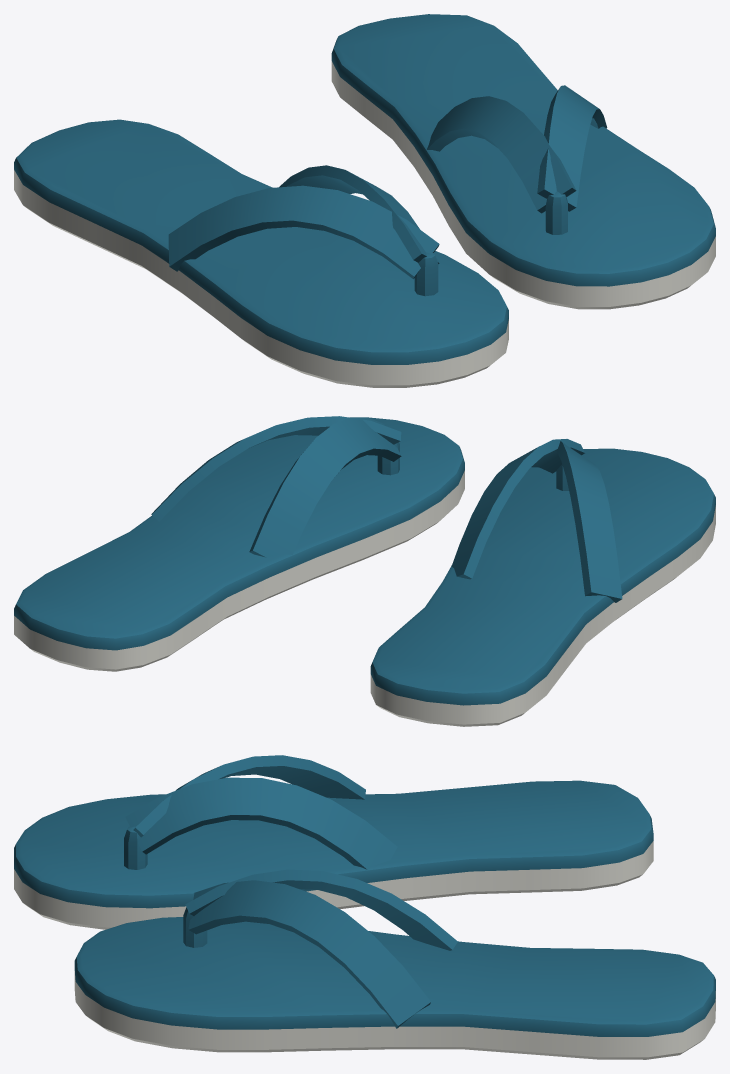
File: thongs.glb
The picture shows the model from 3 angles, top to bottom: view 1: azimuth 30°, elevation 25°; view 2: azimuth 150°, elevation 25°; view 3: azimuth 270°, elevation 25°; orthographic projection. The views are drawn at different scales.
Parts seen in each view (by area): view 1: thongs; view 2: thongs; view 3: thongs.
Boxes of the visible parts, x1,y1,x2,y2 form: thongs: [14, 14, 715, 387]; thongs: [14, 416, 715, 726]; thongs: [14, 755, 715, 1059].
Bounding box in the file's own units: 0.2331 × 0.0523 × 0.2816.
